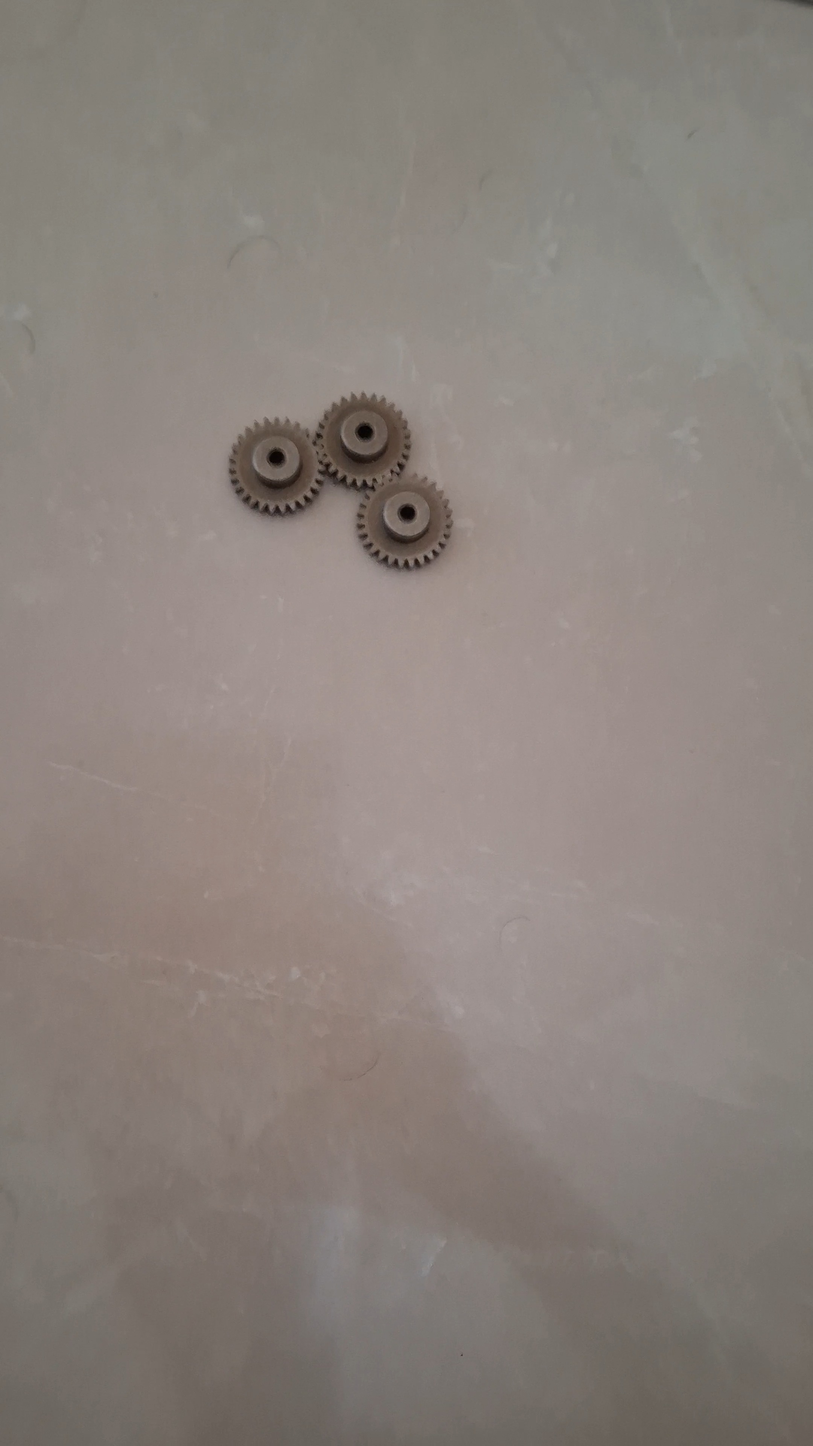spur gear: (315, 394, 411, 488), (356, 476, 452, 568), (230, 419, 322, 514)
